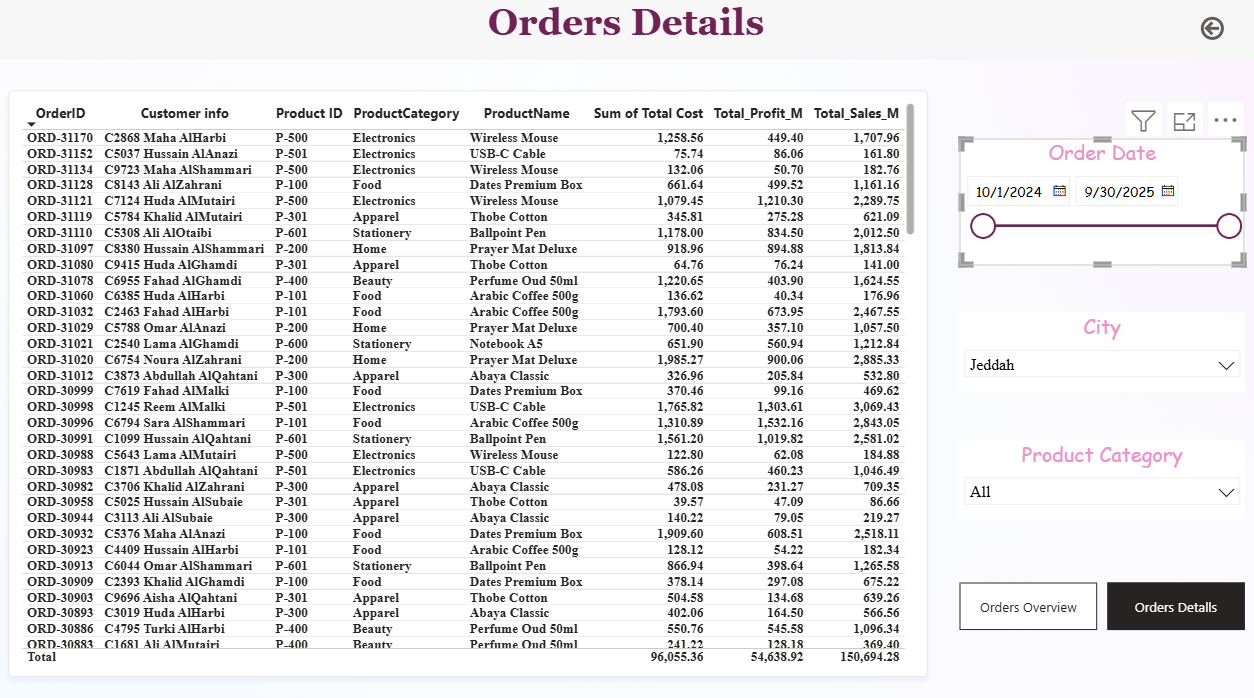

Layout of this report page (visuals, bound fields, positions):
{"tool":"powerbi","page":{"name":" Orders Detalls","canvas":[1280,720],"ordinal":1},"visuals":[{"type":"textbox","box":[0,0,1280,64],"z":0},{"type":"slicer","title":"Order Date","fields":{"Values":["Orders.OrderDate"]},"box":[976,144,288,128],"z":1000},{"type":"slicer","title":"City ","fields":{"Values":["Orders.City"]},"box":[976,320,288,80],"z":2000},{"type":"slicer","title":"Product Category","fields":{"Values":["Orders.ProductCategory"]},"box":[976,448,288,80],"z":3000},{"type":"tableEx","fields":{"Values":["Orders.OrderID","Orders.Customer info ","Orders.Product ID","Orders.ProductCategory","Orders.ProductName","Orders.Total Cost","Orders.Total_Profit_M","Orders.Total_Sales_M"]},"box":[16,96,928,592],"z":4000},{"type":"pageNavigator","box":[976,592,288,48],"z":5000}]}

Visuals, with their boxes in screenshot pixels (x1, y1, x2, y2), scaled from the page's 1280x720 canvas onto the 1254x698 screenshot:
textbox: BBox(0, 0, 1253, 62)
"Order Date" slicer: BBox(956, 140, 1238, 264)
"City " slicer: BBox(956, 310, 1238, 388)
"Product Category" slicer: BBox(956, 434, 1238, 512)
tableEx - Orders.OrderID x Orders.Customer info : BBox(16, 93, 925, 667)
pageNavigator: BBox(956, 574, 1238, 620)
